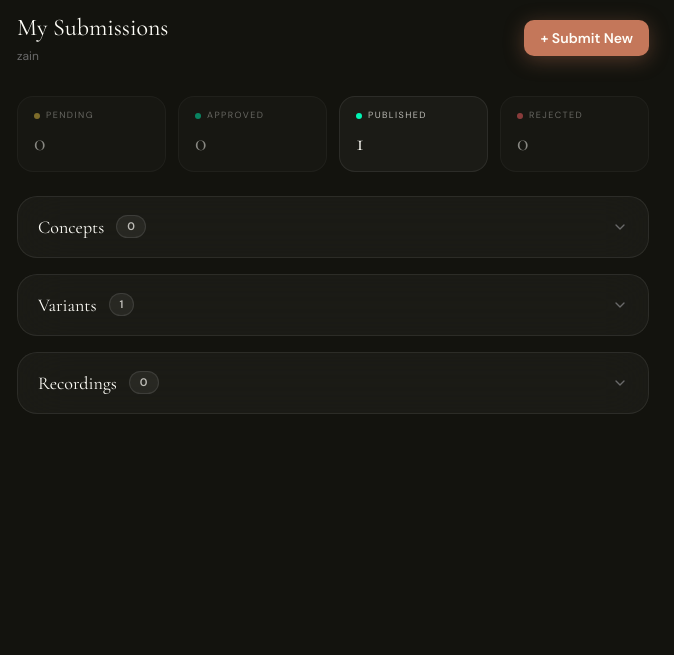
Scenario: My Submissions — needs completion › shows one gold chip per missing detail and a top-right Edit button; both open the form
Click the button "Variants 1" at (67, 304), box 18,274 -> 648,334
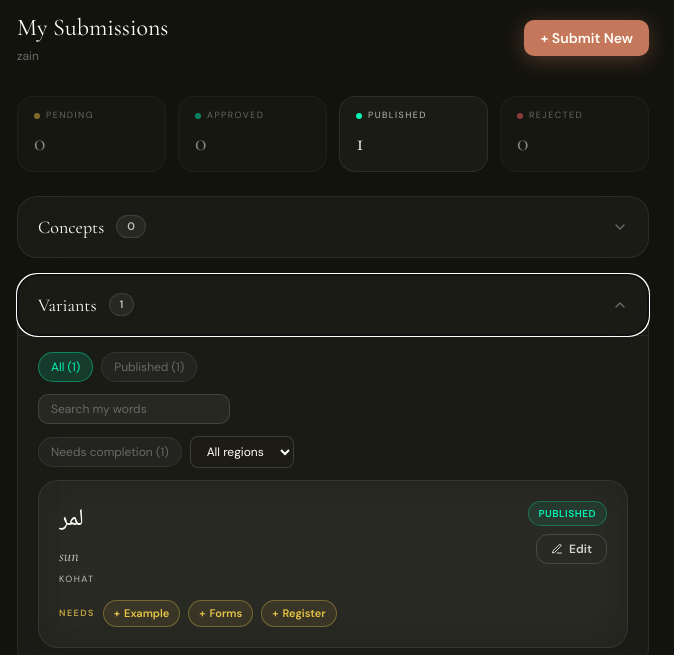
Click the button with aria-label "Add Forms" at (221, 614), box 188,600 -> 253,627
(page scrolled)
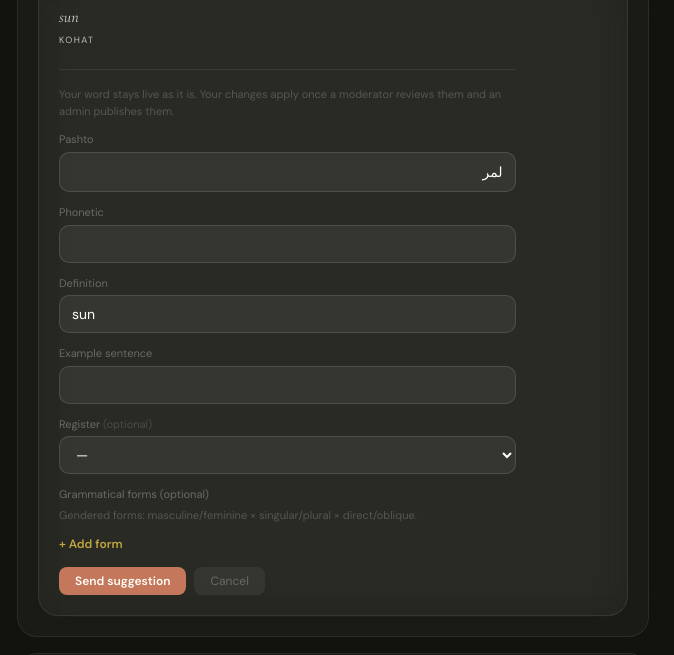
Expected: the form named "suggest changes" is shown, 59,69 -> 516,595
Expected: the button "Edit" is gone
